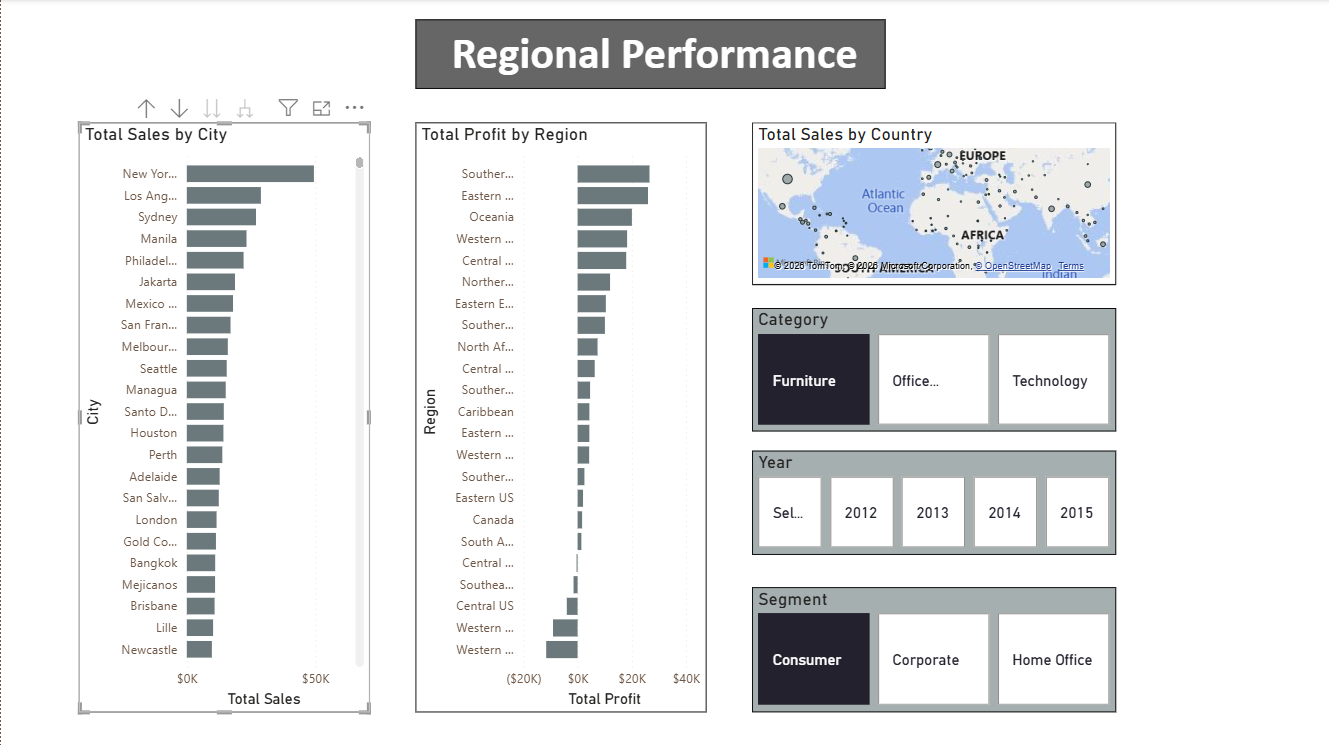

What the dashboard file says about the page in this screenshot:
{"tool":"powerbi","page":{"name":"Regional Performance","canvas":[1280,720],"ordinal":1},"visuals":[{"type":"clusteredBarChart","fields":{"Category":["Orders.Region","Orders.Country","Orders.State","Orders.City"],"Y":["Orders.Total Sales"]},"box":[74.3,118.6,280,567.1],"z":0},{"type":"clusteredBarChart","fields":{"Category":["Orders.Region"],"Y":["Orders.Total Profit"]},"box":[398.6,118.6,280,567.1],"z":1000},{"type":"map","fields":{"Category":["Orders.Country"],"Size":["Orders.Total Sales"]},"box":[721.4,118.1,350,155.7],"z":2000},{"type":"advancedSlicerVisual","fields":{"Values":["Orders.Category"]},"box":[721.4,296.7,350,118.6],"z":3000},{"type":"advancedSlicerVisual","fields":{"Values":["Orders.Order Date.Variation.Date Hierarchy.Year"]},"box":[721.4,433.8,350,100],"z":4000},{"type":"advancedSlicerVisual","fields":{"Values":["Orders.Segment"]},"box":[721.4,565.2,350,120],"z":5000},{"type":"textbox","box":[398.6,20,451.4,67.1],"z":6000}]}

Visuals, with their boxes on the page's 1280x720 design canvas (x1, y1, x2, y2). These are canvas units, not pixel positions in the 1329x745 screenshot, which may show the page scaled, cropped or inside an application window:
clusteredBarChart - Orders.Region x Orders.Country: BBox(74, 119, 354, 686)
clusteredBarChart - Orders.Region x Orders.Total Profit: BBox(399, 119, 679, 686)
map - Orders.Country x Orders.Total Sales: BBox(721, 118, 1071, 274)
advancedSlicerVisual - Orders.Category: BBox(721, 297, 1071, 415)
advancedSlicerVisual - Orders.Order Date.Variation.Date Hierarchy.Year: BBox(721, 434, 1071, 534)
advancedSlicerVisual - Orders.Segment: BBox(721, 565, 1071, 685)
textbox: BBox(399, 20, 850, 87)
